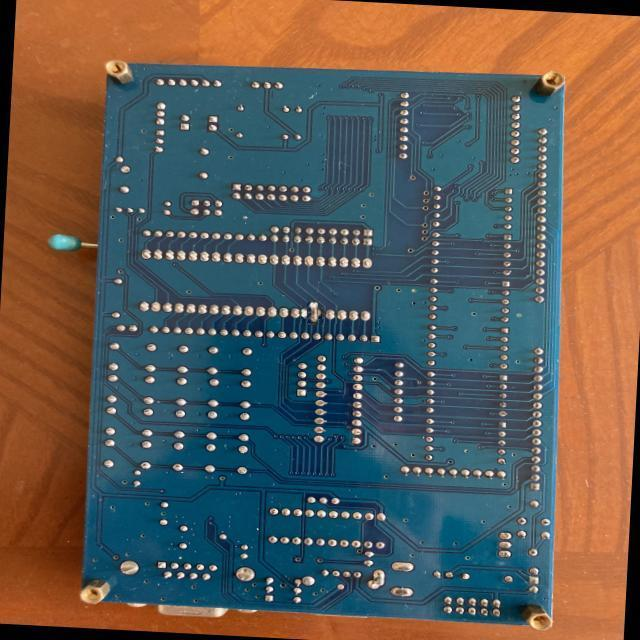damged: (304, 304, 322, 322)
